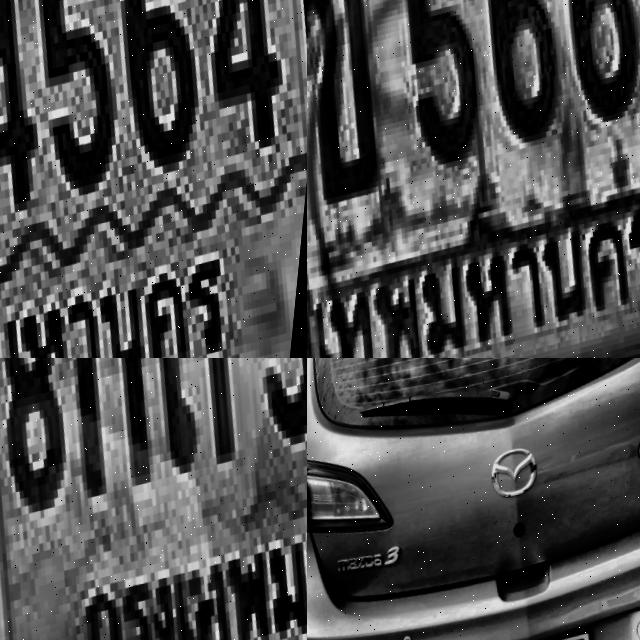license-plate: (307, 0, 640, 358), (0, 0, 307, 358), (0, 358, 307, 640)
